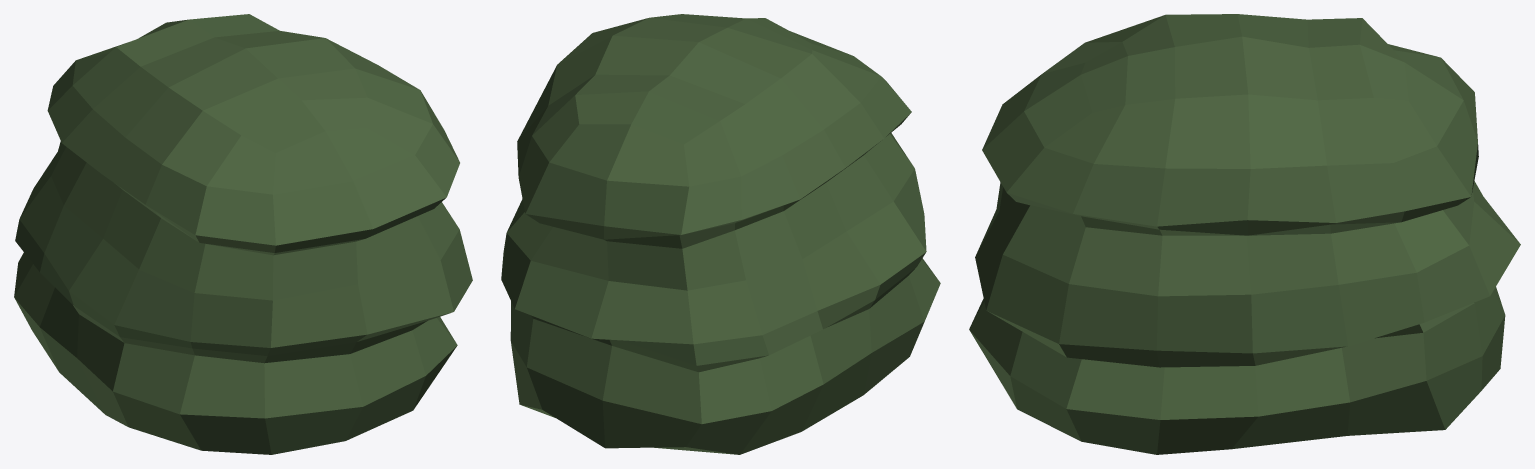
Rendered from Bush_1.gltf.
The picture shows the model from 3 angles, left to right: view 1: azimuth 30°, elevation 25°; view 2: azimuth 150°, elevation 25°; view 3: azimuth 270°, elevation 25°; orthographic projection. The views are drawn at different scales.
Visible parts, largest first — view 1: Bush_1; view 2: Bush_1; view 3: Bush_1.
Part boxes in pixels (bbox=[...]): Bush_1: bbox=[14, 14, 472, 454]; Bush_1: bbox=[501, 14, 940, 454]; Bush_1: bbox=[969, 14, 1520, 454].
Bounding box in the file's own units: 1.33 × 1.24 × 1.69.
